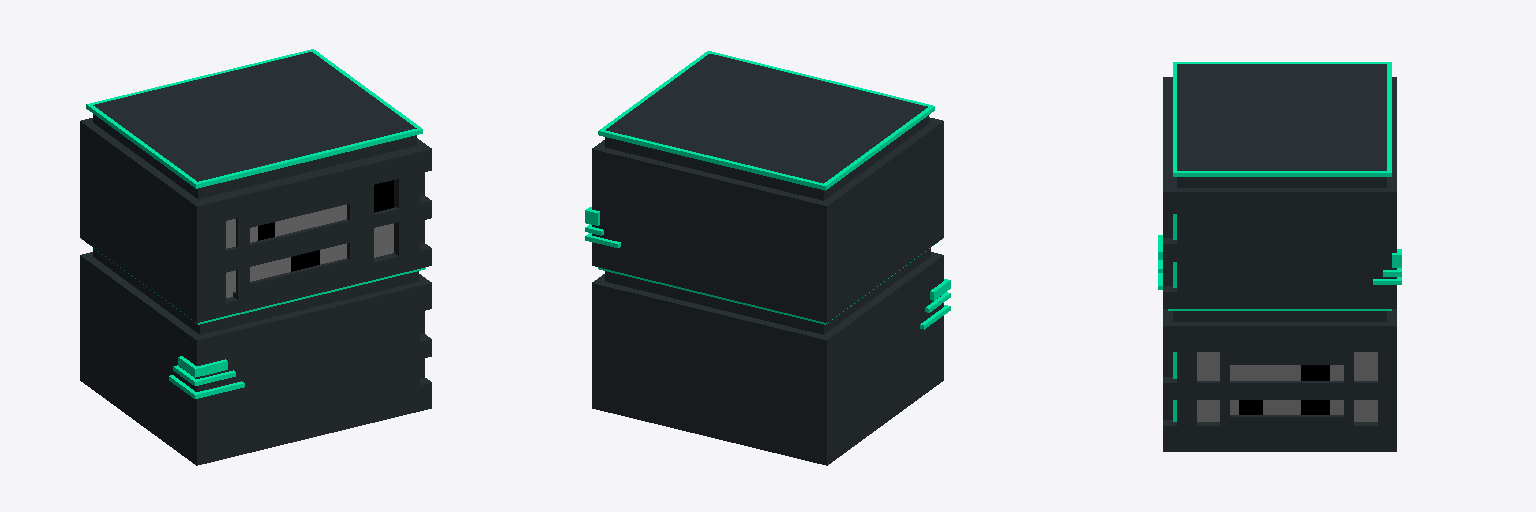
3 views of the same model, side by side, from view 1: azimuth 30°, elevation 25°; view 2: azimuth 150°, elevation 25°; view 3: azimuth 270°, elevation 25° (orthographic).
Visible parts, largest first — view 1: object 1; view 2: object 1; view 3: object 1.
Part boxes in pixels (bbox=[...]): object 1: bbox=[80, 49, 431, 465]; object 1: bbox=[585, 51, 950, 465]; object 1: bbox=[1158, 62, 1401, 451].
Size of the model in its own units: 5.9 by 6.4 by 5.1.
1 materials, 1 textured.